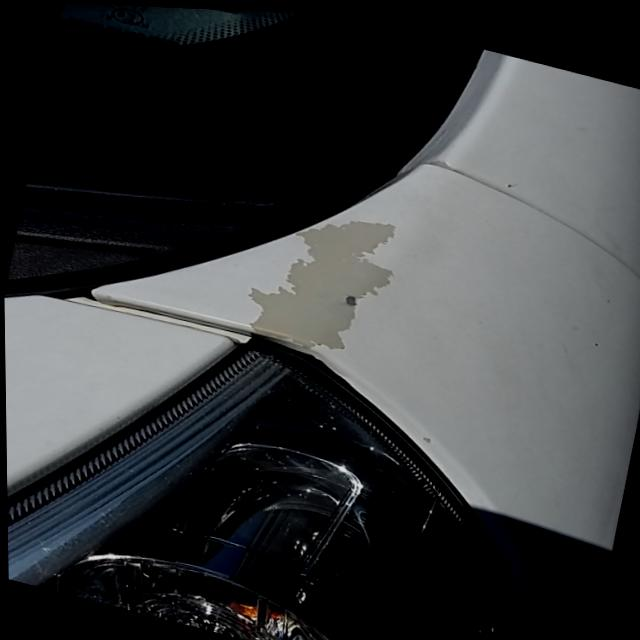Paint-fading: (241, 218, 401, 353)
